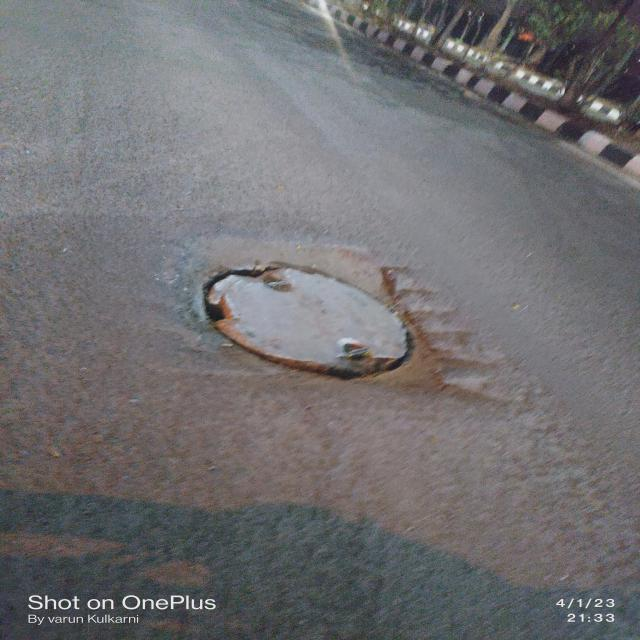manhole: (139, 229, 477, 411)
